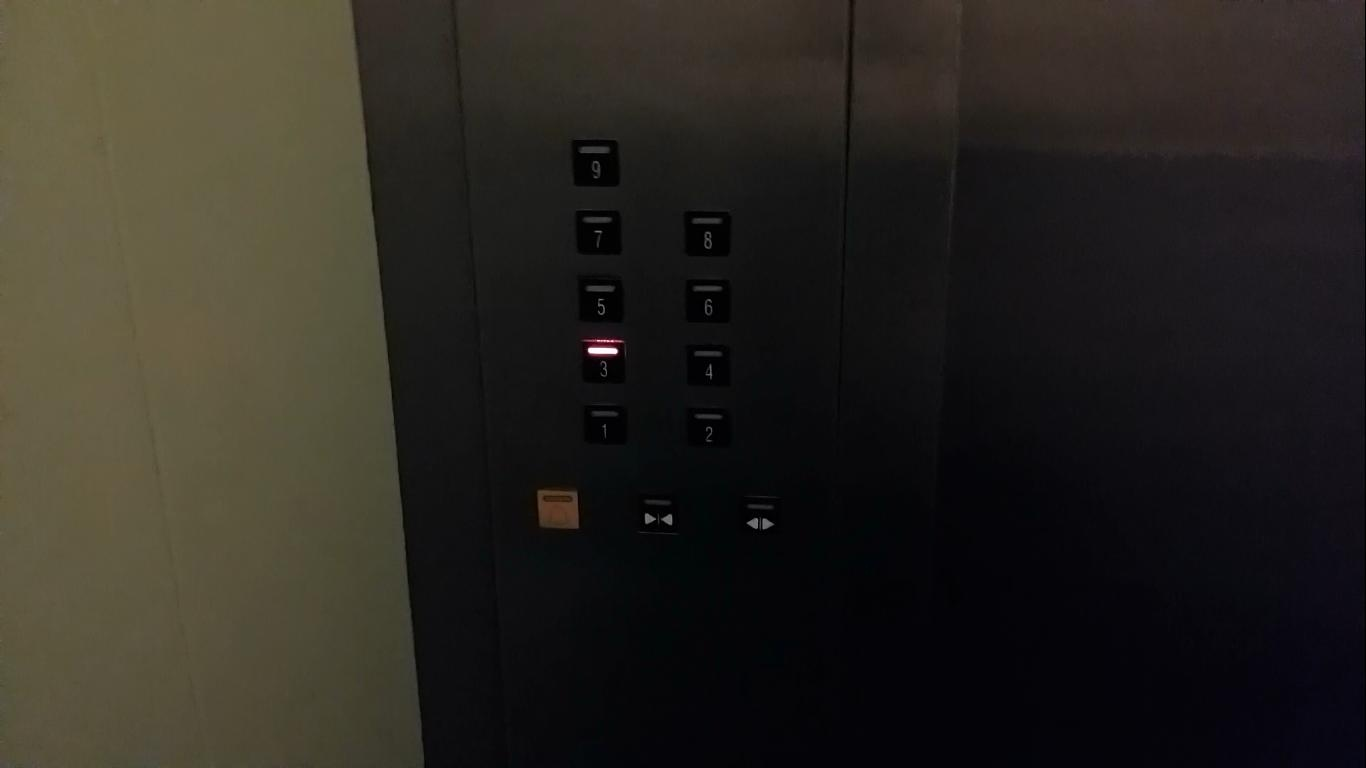1: (584, 405, 626, 448)
2: (687, 411, 728, 451)
3: (580, 338, 625, 383)
4: (685, 350, 729, 391)
5: (578, 279, 625, 325)
6: (685, 280, 729, 323)
7: (574, 210, 623, 257)
8: (684, 211, 731, 257)
9: (572, 140, 620, 187)
alarm: (536, 488, 580, 529)
close: (635, 496, 680, 534)
open: (738, 498, 782, 539)
